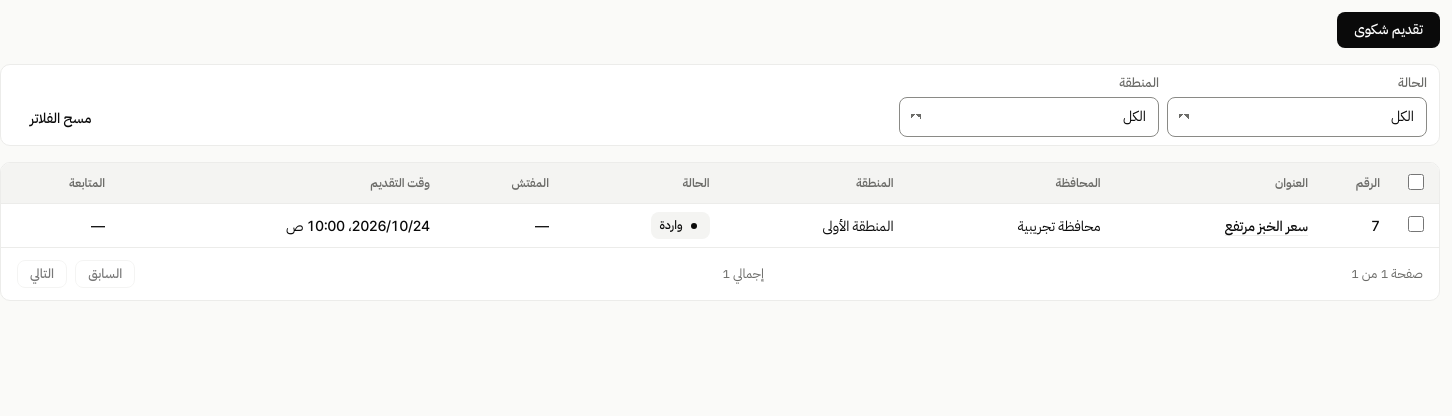
Test: complaints list › flags selected rows for a governor and refetches
The image size is (1452, 416).
Click the checkbox named "تحديد سعر الخبز مرتفع": (1416, 224) left=1408, top=216, right=1424, bottom=232
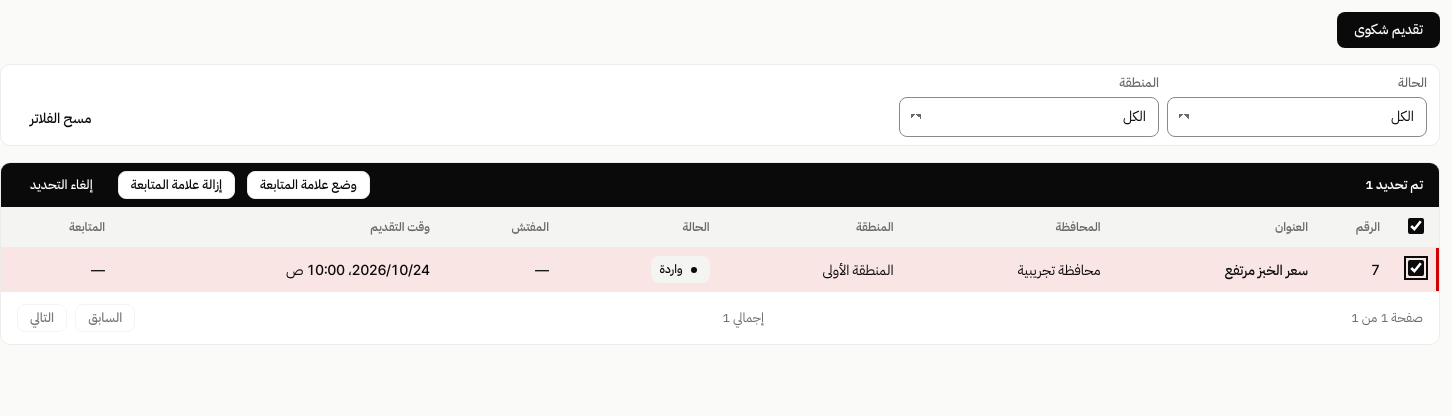
Click the button "وضع علامة المتابعة": (308, 185) left=247, top=171, right=370, bottom=199
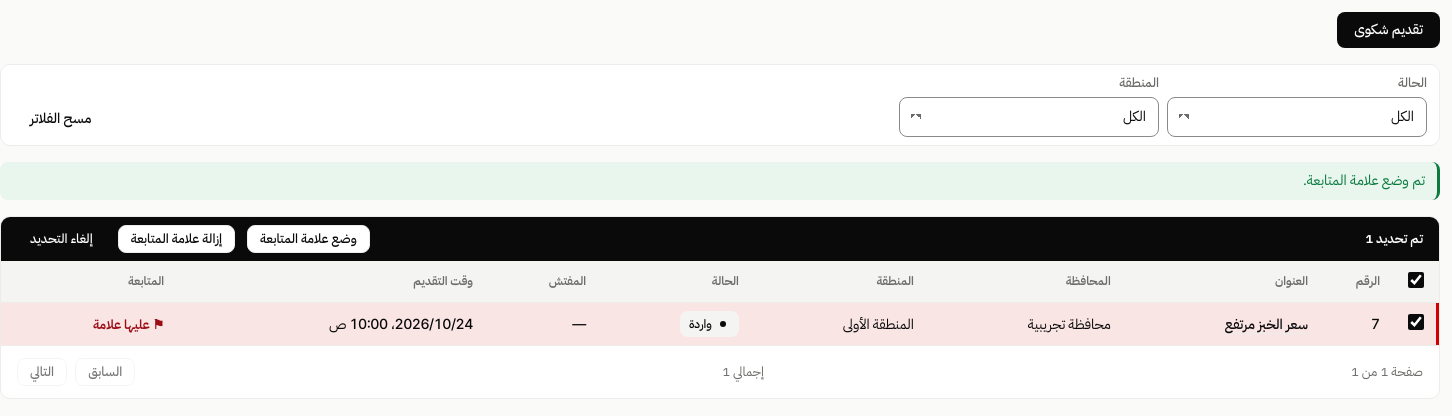
Expected: the text "عليها علامة" is shown, left=93, top=316, right=164, bottom=332
